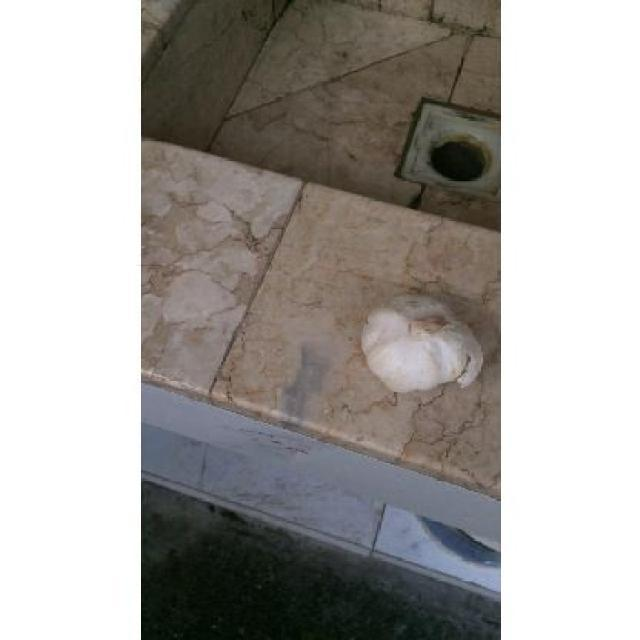garlic: (361, 296, 482, 392)
